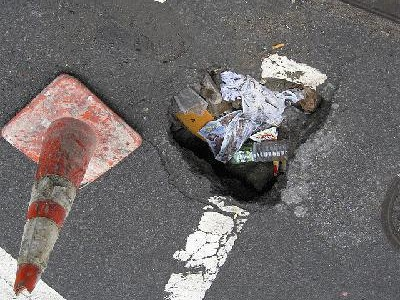pothole: (163, 66, 333, 210)
